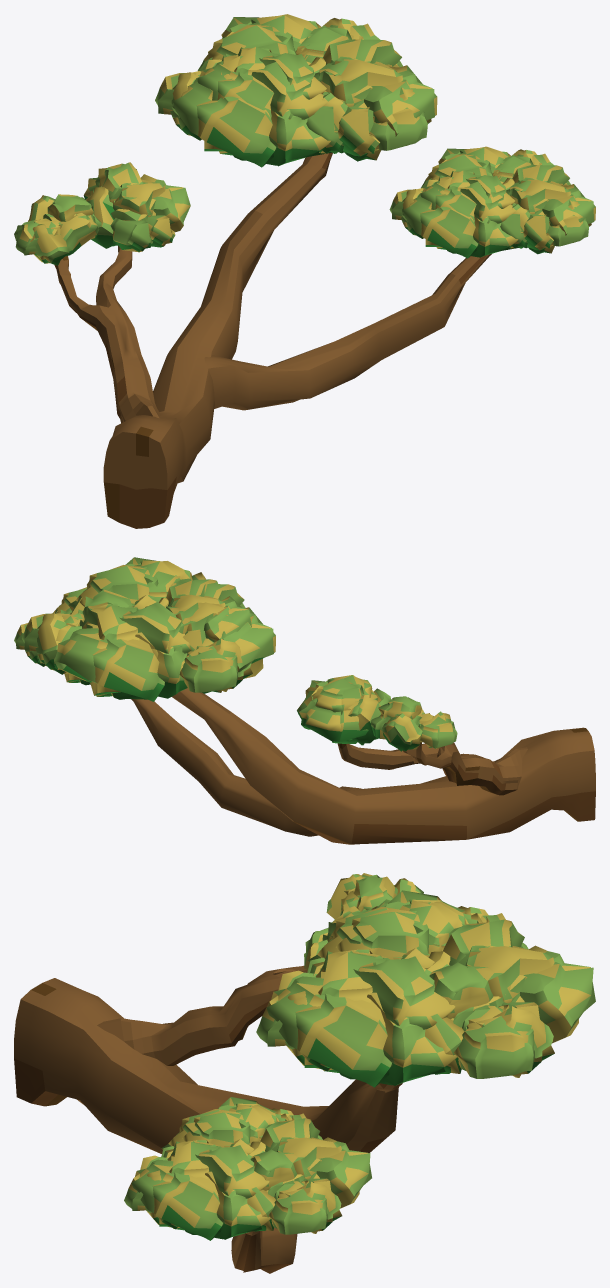
Rendered from Branch3.fbx.
The picture shows the model from 3 angles, top to bottom: view 1: azimuth 30°, elevation 25°; view 2: azimuth 150°, elevation 25°; view 3: azimuth 270°, elevation 25°; orthographic projection. The views are drawn at different scales.
Visible parts, largest first — view 1: pasted__pasted__polySurface45; view 2: pasted__pasted__polySurface45; view 3: pasted__pasted__polySurface45.
Part boxes in pixels (<box>): pasted__pasted__polySurface45: <box>14,14,595,528</box>; pasted__pasted__polySurface45: <box>14,557,595,844</box>; pasted__pasted__polySurface45: <box>14,873,595,1273</box>.
Size of the model in its own units: 56.99 by 29.81 by 43.38.
